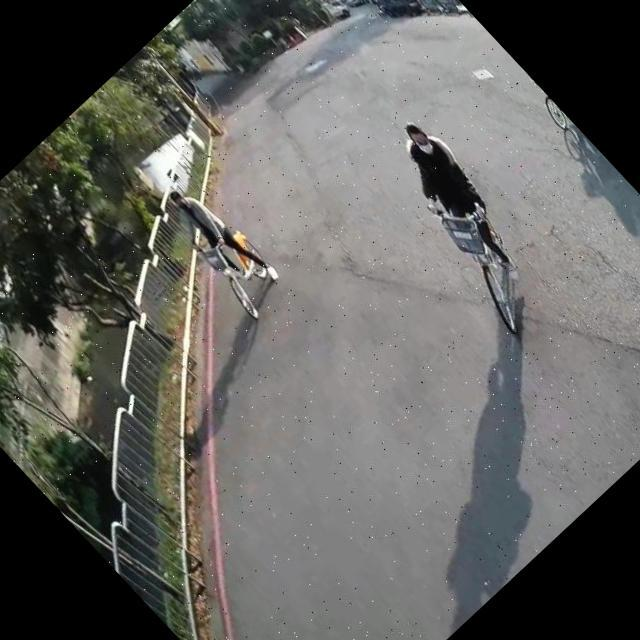person: (364, 105, 550, 298), (147, 170, 286, 314)
